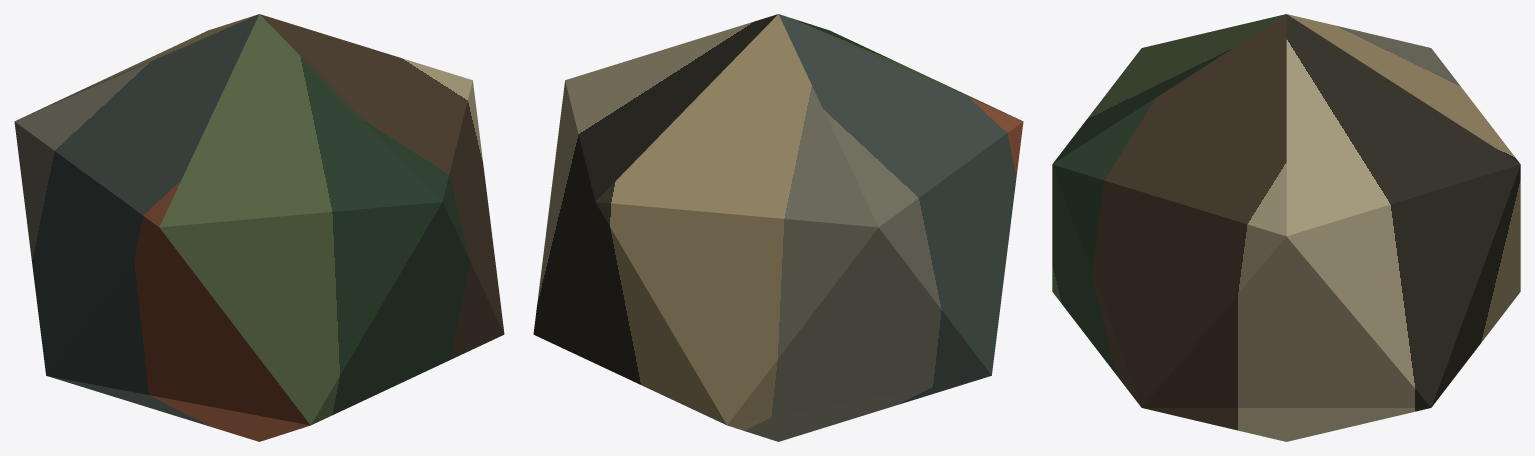
Rendered from treeCrownsAlt.obj.
The picture shows the model from 3 angles, left to right: view 1: azimuth 30°, elevation 25°; view 2: azimuth 150°, elevation 25°; view 3: azimuth 270°, elevation 25°; orthographic projection.
Visible parts, largest first — view 1: treeCrownsAlt; view 2: treeCrownsAlt; view 3: treeCrownsAlt.
Boxes of the visible parts, box(x1,y1,x2,y2) form: treeCrownsAlt: box(14, 14, 504, 441); treeCrownsAlt: box(533, 14, 1023, 441); treeCrownsAlt: box(1052, 14, 1520, 441).
Bounding box in the file's own units: 2 × 1.92 × 1.91.
1 material, 1 textured.
